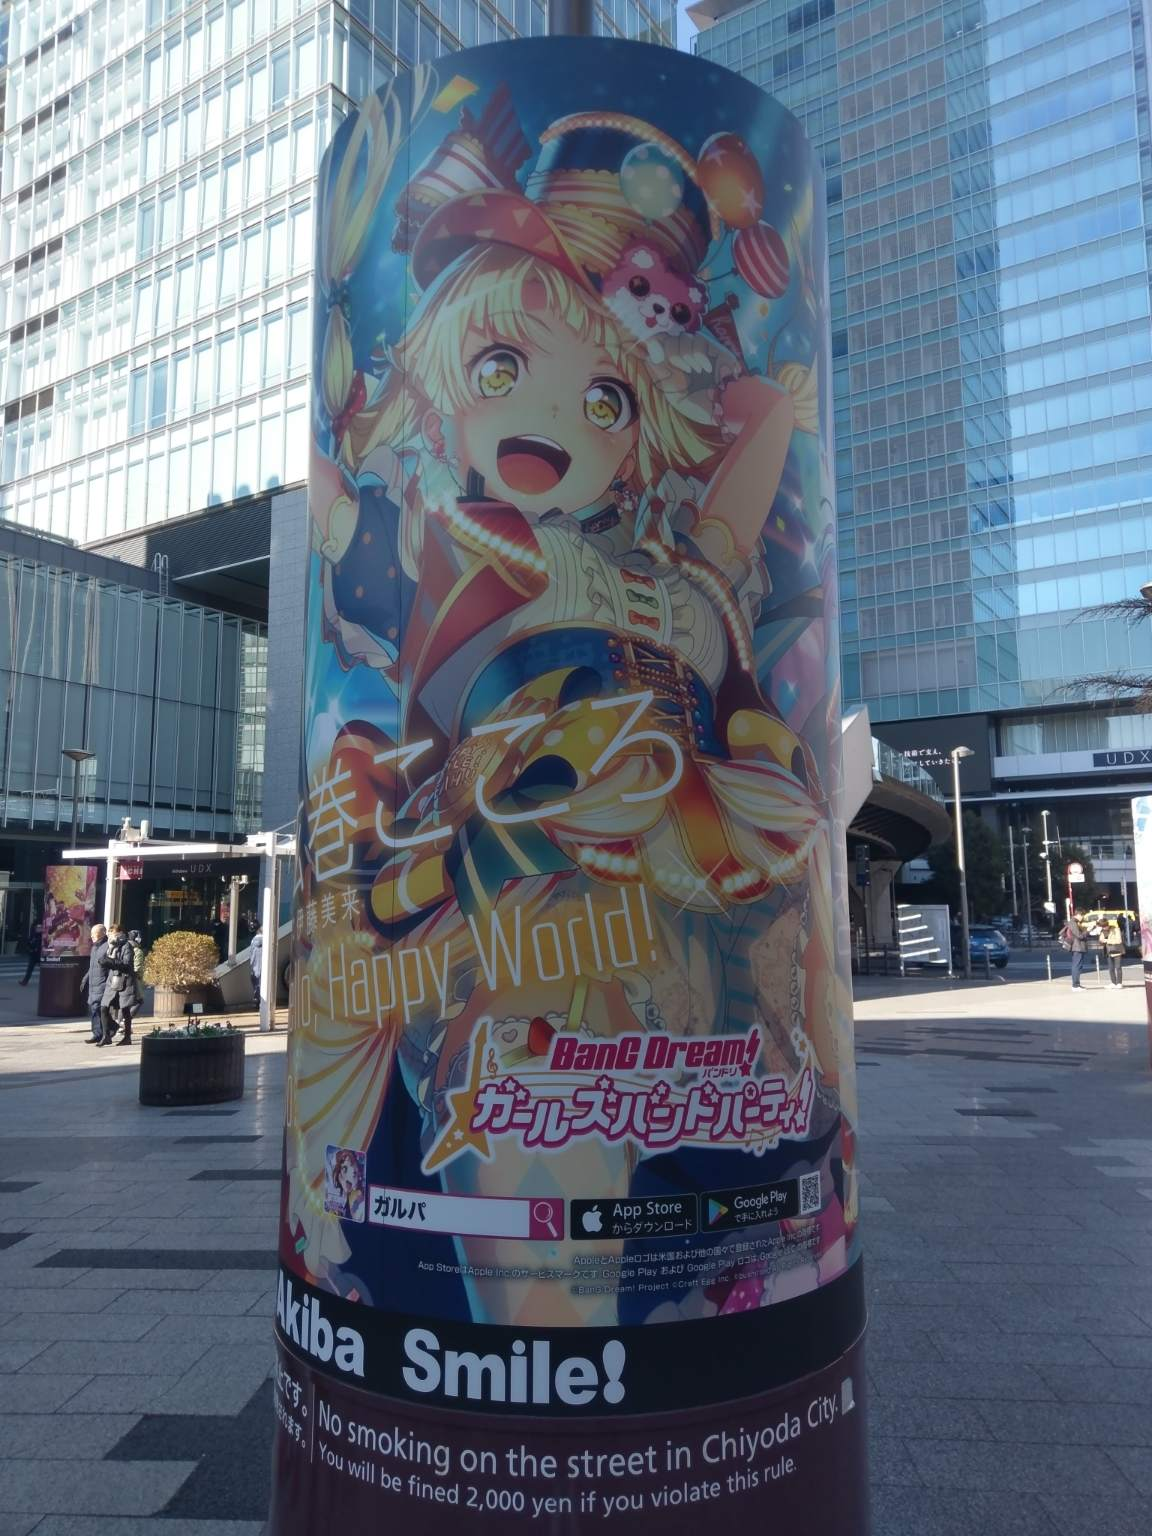pole: (243, 34, 886, 1528)
